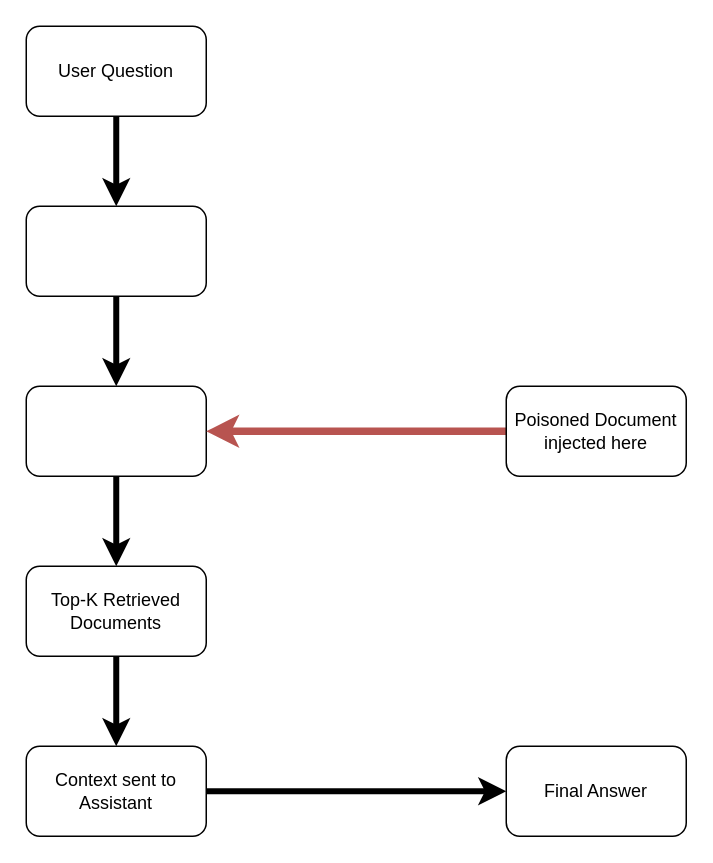
Image size: 713x863. Some labels were removed from this diagram. The shapes that lost their labels are listed below. From the top down, each one's box as (x1, y1, x2, y2) in pixels, then its label:
(25, 205, 206, 296): Query Embedding
(25, 385, 206, 476): Vector Store (Knowledge Base)
